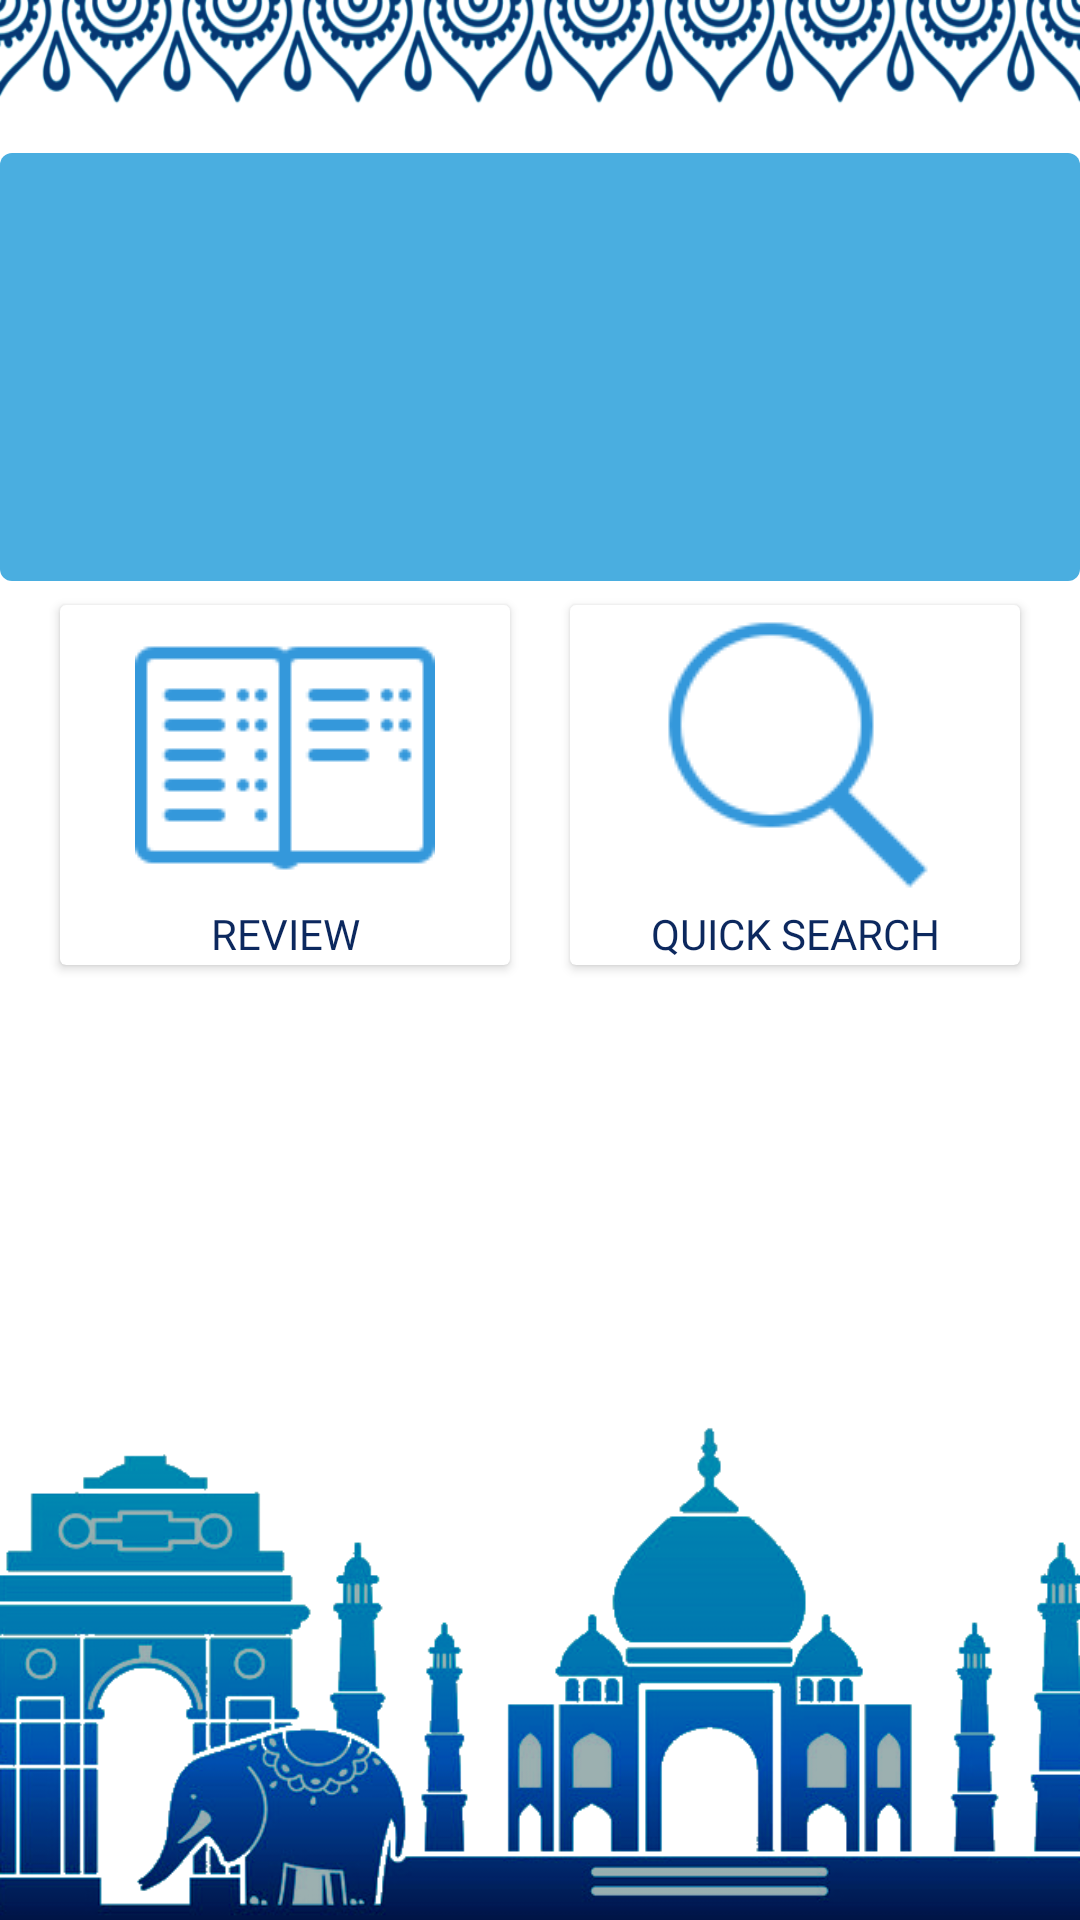

Point at icon controls on the screen. Image size 1080px x 1920px, points as (x,y).
study: (285,758)
